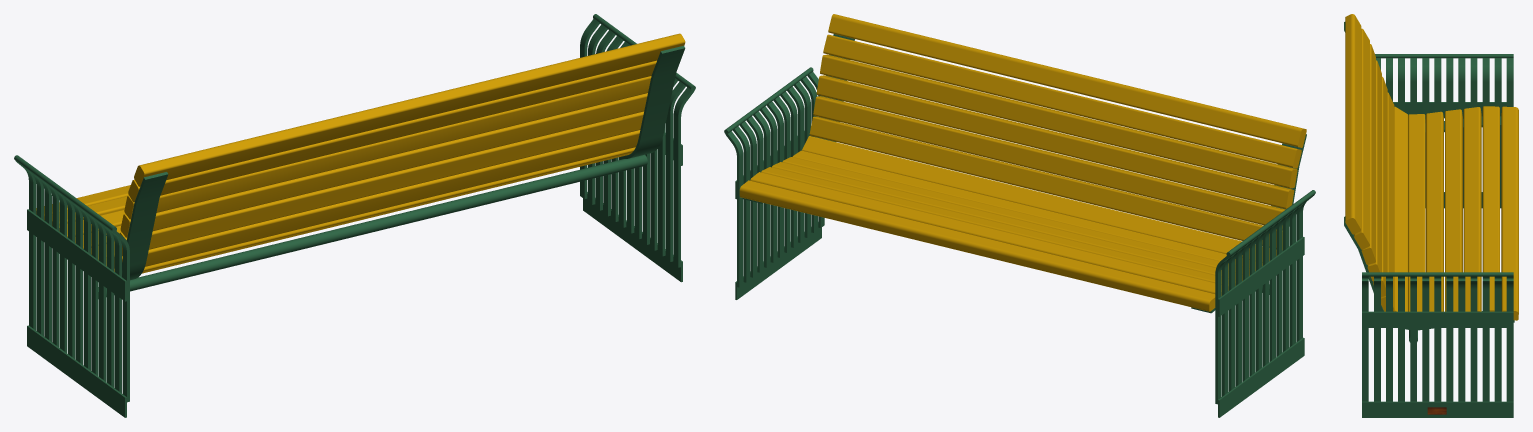
3 renders of one model, left to right at view 1: azimuth 30°, elevation 25°; view 2: azimuth 150°, elevation 25°; view 3: azimuth 270°, elevation 25°, orthographic. The views are drawn at different scales.
Visible parts, largest first — view 1: mesh28_mesh28-geometry, mesh7_mesh7-geometry, mesh10_mesh10-geometry, mesh13_mesh13-geometry, mesh12_mesh12-geometry, mesh6_mesh6-geometry, mesh5_mesh5-geometry, mesh9_mesh9-geometry, mesh29_mesh29-geometry, mesh30_mesh30-geometry; view 2: mesh28_mesh28-geometry, mesh10_mesh10-geometry, mesh12_mesh12-geometry, mesh13_mesh13-geometry, mesh5_mesh5-geometry, mesh7_mesh7-geometry, mesh6_mesh6-geometry, mesh11_mesh11-geometry, mesh9_mesh9-geometry, mesh2_mesh2-geometry, mesh8_mesh8-geometry, mesh1_mesh1-geometry (+2 smaller); view 3: mesh28_mesh28-geometry, mesh7_mesh7-geometry, mesh1_mesh1-geometry, mesh11_mesh11-geometry, mesh3_mesh3-geometry, mesh2_mesh2-geometry, mesh4_mesh4-geometry, mesh8_mesh8-geometry, mesh9_mesh9-geometry, mesh5_mesh5-geometry, mesh6_mesh6-geometry, mesh12_mesh12-geometry (+3 smaller).
Part boxes in pixels (box(x1,y1,x2,y2)): mesh28_mesh28-geometry: box(14, 14, 695, 417); mesh7_mesh7-geometry: box(134, 33, 685, 186); mesh10_mesh10-geometry: box(120, 93, 647, 237); mesh13_mesh13-geometry: box(119, 111, 643, 255); mesh12_mesh12-geometry: box(124, 76, 651, 219); mesh6_mesh6-geometry: box(114, 130, 640, 268); mesh5_mesh5-geometry: box(128, 60, 656, 202); mesh9_mesh9-geometry: box(114, 147, 635, 273); mesh29_mesh29-geometry: box(619, 45, 685, 158); mesh30_mesh30-geometry: box(122, 172, 168, 280); mesh28_mesh28-geometry: box(724, 67, 1315, 417); mesh10_mesh10-geometry: box(816, 75, 1294, 208); mesh12_mesh12-geometry: box(820, 54, 1297, 188); mesh13_mesh13-geometry: box(813, 96, 1285, 229); mesh5_mesh5-geometry: box(823, 34, 1301, 168); mesh7_mesh7-geometry: box(828, 14, 1306, 147); mesh6_mesh6-geometry: box(809, 116, 1282, 249); mesh11_mesh11-geometry: box(739, 180, 1215, 311); mesh9_mesh9-geometry: box(802, 136, 1276, 262); mesh2_mesh2-geometry: box(750, 172, 1228, 295); mesh8_mesh8-geometry: box(792, 150, 1262, 269); mesh1_mesh1-geometry: box(761, 167, 1235, 286); mesh28_mesh28-geometry: box(1362, 54, 1513, 417); mesh7_mesh7-geometry: box(1345, 14, 1361, 234); mesh1_mesh1-geometry: box(1463, 107, 1481, 311); mesh11_mesh11-geometry: box(1501, 106, 1518, 320); mesh3_mesh3-geometry: box(1445, 109, 1462, 311); mesh2_mesh2-geometry: box(1482, 106, 1499, 311); mesh4_mesh4-geometry: box(1426, 111, 1443, 311); mesh8_mesh8-geometry: box(1408, 114, 1425, 311); mesh9_mesh9-geometry: box(1393, 106, 1407, 311); mesh5_mesh5-geometry: box(1354, 28, 1369, 249); mesh6_mesh6-geometry: box(1381, 92, 1394, 311); mesh12_mesh12-geometry: box(1361, 44, 1375, 264).
Size of the model in its own units: 0.8817 by 0.3676 by 0.2958.
